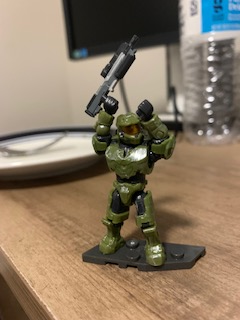chief: (91, 97, 175, 273)
rifle: (84, 32, 140, 119)
spartan: (89, 95, 173, 271)
up: (92, 97, 176, 179)
